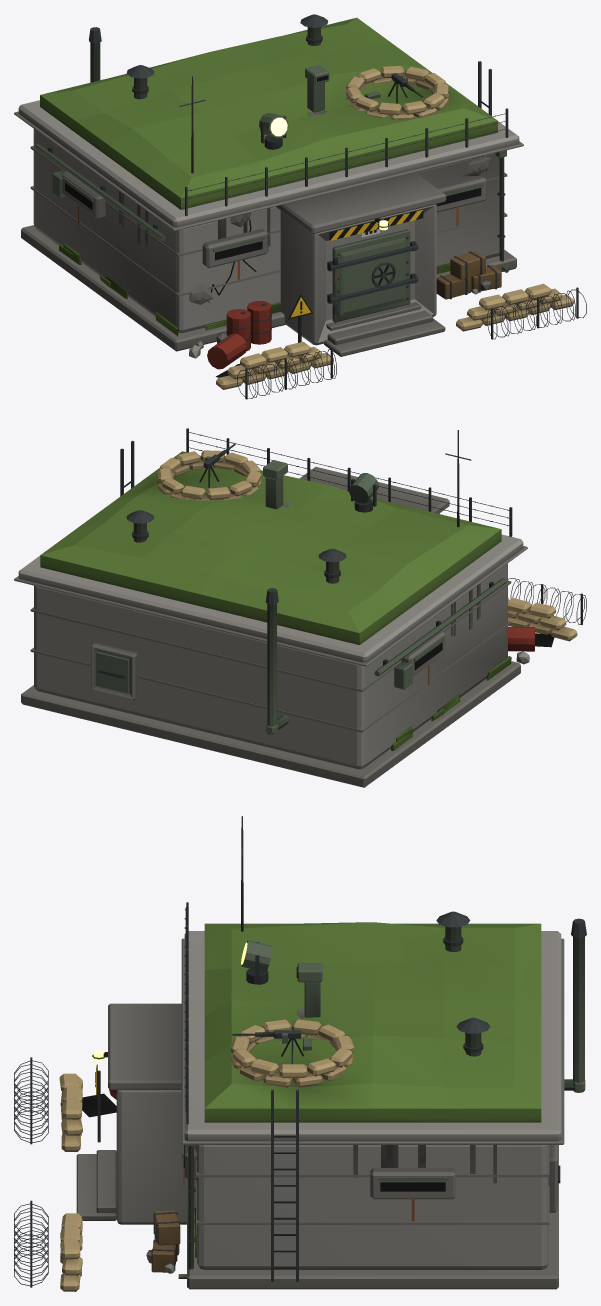
File: bunker_hd.glb
3 views of the same model, one above another, from view 1: azimuth 30°, elevation 25°; view 2: azimuth 150°, elevation 25°; view 3: azimuth 270°, elevation 25° (orthographic). The views are drawn at different scales.
Parts seen in each view (by area): view 1: bunker_hd; view 2: bunker_hd; view 3: bunker_hd.
Part boxes in pixels (x1=…): bunker_hd: x1=14, y1=14, x2=586, y2=399; bunker_hd: x1=14, y1=428, x2=586, y2=787; bunker_hd: x1=14, y1=816, x2=586, y2=1291.
Size of the model in its own units: 9.78 by 6.55 by 11.4.
